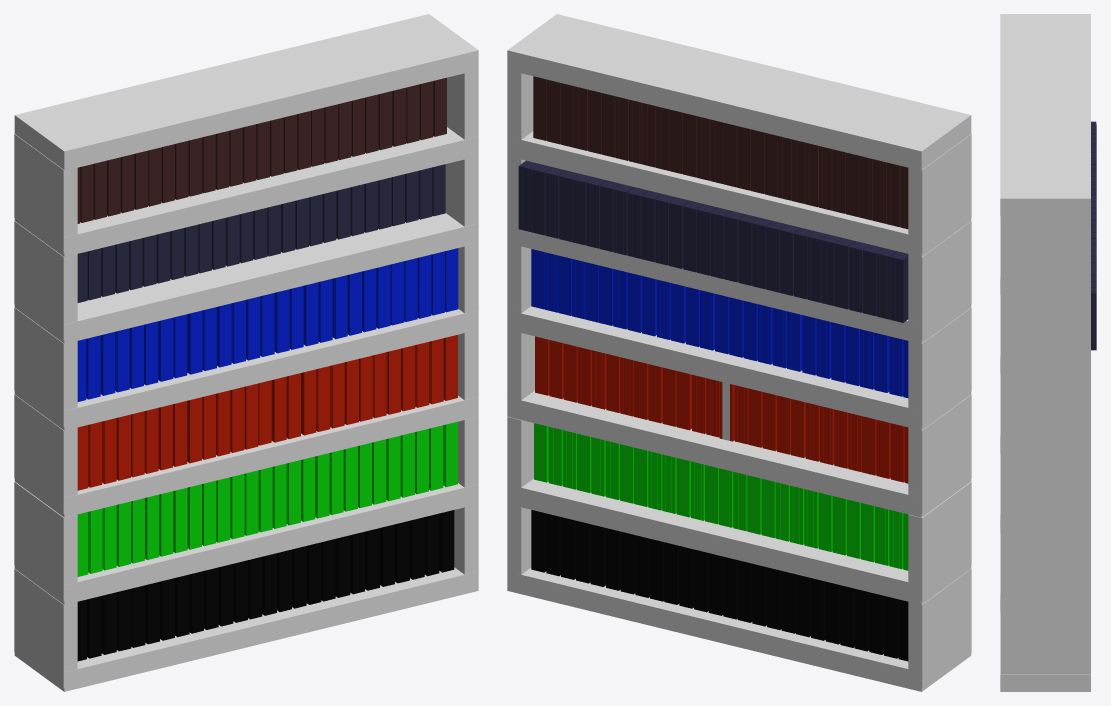
File: bookshelf.fbx
3 renders of one model, left to right at view 1: azimuth 30°, elevation 25°; view 2: azimuth 150°, elevation 25°; view 3: azimuth 270°, elevation 25°, orthographic. The views are drawn at different scales.
Parts seen in each view (by area): view 1: Cube.018, Cube.017, Cube.012, Cube, Cube.006, Cube.005, Cube.011, Cube.004, Cube.001, Cube.010, Cube.016, Cube.007 (+165 smaller); view 2: Cube.018, Cube.005, Cube.011, Cube.006, Cube, Cube.012, Cube.017, Cube.004, Cube.001, Cube.010, Cube.016, Cube.007 (+165 smaller); view 3: Cube.018, Cube.003, Cube.008, Cube.015, Cube.002, Cube.009, Cube.014, Cube.005, Cube.006, Cube.017, Cube, Cube.011 (+2 smaller).
Part boxes in pixels (x1=…): Cube.018: x1=14, y1=14, x2=478, y2=170; Cube.017: x1=14, y1=213, x2=478, y2=343; Cube.012: x1=14, y1=127, x2=478, y2=256; Cube: x1=14, y1=567, x2=478, y2=691; Cube.006: x1=14, y1=309, x2=478, y2=430; Cube.005: x1=14, y1=483, x2=478, y2=604; Cube.011: x1=14, y1=396, x2=478, y2=517; Cube.004: x1=14, y1=481, x2=77, y2=601; Cube.001: x1=14, y1=568, x2=77, y2=688; Cube.010: x1=14, y1=394, x2=77, y2=513; Cube.016: x1=14, y1=221, x2=77, y2=340; Cube.007: x1=14, y1=307, x2=77, y2=426; Cube.018: x1=507, y1=14, x2=971, y2=170; Cube.005: x1=507, y1=478, x2=971, y2=604; Cube.011: x1=507, y1=390, x2=971, y2=517; Cube.006: x1=507, y1=306, x2=971, y2=430; Cube: x1=507, y1=568, x2=971, y2=691; Cube.012: x1=507, y1=131, x2=971, y2=256; Cube.017: x1=507, y1=223, x2=971, y2=343; Cube.004: x1=908, y1=482, x2=971, y2=601; Cube.001: x1=908, y1=568, x2=971, y2=688; Cube.010: x1=908, y1=394, x2=971, y2=513; Cube.016: x1=908, y1=221, x2=971, y2=340; Cube.007: x1=908, y1=307, x2=971, y2=426; Cube.018: x1=1000, y1=14, x2=1090, y2=216; Cube.003: x1=1000, y1=533, x2=1090, y2=594; Cube.008: x1=1000, y1=374, x2=1090, y2=435; Cube.015: x1=1000, y1=295, x2=1090, y2=356; Cube.002: x1=1000, y1=612, x2=1090, y2=673; Cube.009: x1=1000, y1=453, x2=1090, y2=514; Cube.014: x1=1000, y1=216, x2=1090, y2=277; Cube.005: x1=1000, y1=533, x2=1090, y2=612; Cube.006: x1=1000, y1=374, x2=1090, y2=453; Cube.017: x1=1000, y1=295, x2=1090, y2=374; Cube: x1=1000, y1=613, x2=1090, y2=691; Cube.011: x1=1000, y1=454, x2=1090, y2=532.
Bounding box in the file's own units: 401 × 499 × 88.09.
